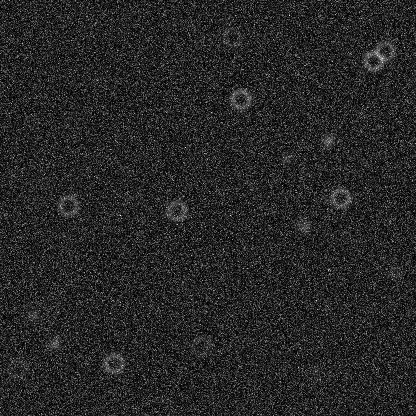Ring: (56, 193, 80, 217), (361, 48, 385, 72), (5, 356, 29, 380), (219, 25, 243, 49), (228, 87, 252, 111), (101, 351, 125, 375), (328, 185, 352, 209), (164, 198, 188, 222), (373, 39, 397, 63), (188, 334, 212, 358)
Spot: (296, 218, 312, 234), (279, 150, 295, 166), (297, 161, 313, 177), (46, 335, 62, 351), (306, 363, 322, 379), (319, 132, 335, 148), (24, 306, 40, 322), (386, 264, 402, 280)
